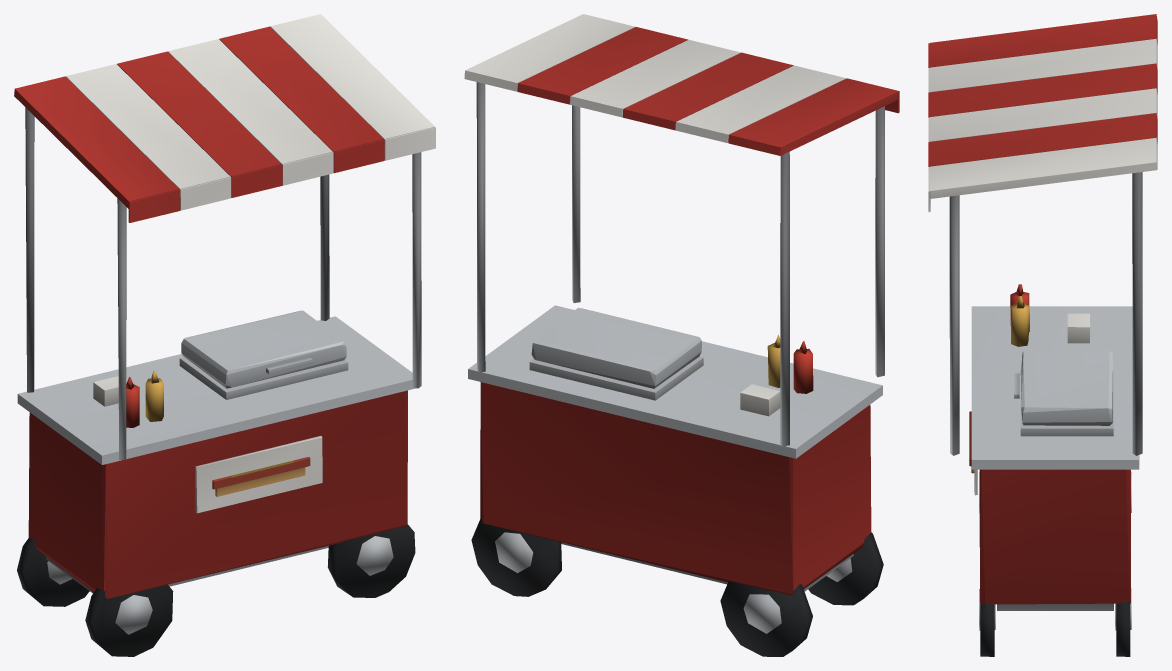
Rendered from hotDogStand.far.glb.
3 renders of one model, left to right at view 1: azimuth 30°, elevation 25°; view 2: azimuth 150°, elevation 25°; view 3: azimuth 270°, elevation 25°, orthographic. The views are drawn at different scales.
Parts seen in each view (by area): view 1: hotDogStand_far; view 2: hotDogStand_far; view 3: hotDogStand_far.
Boxes of the visible parts, left/top/right/bottom form: hotDogStand_far: left=14, top=14, right=435, bottom=656; hotDogStand_far: left=464, top=14, right=899, bottom=656; hotDogStand_far: left=928, top=14, right=1157, bottom=656.
Size of the model in its own units: 1.59 by 2.39 by 0.9795.
